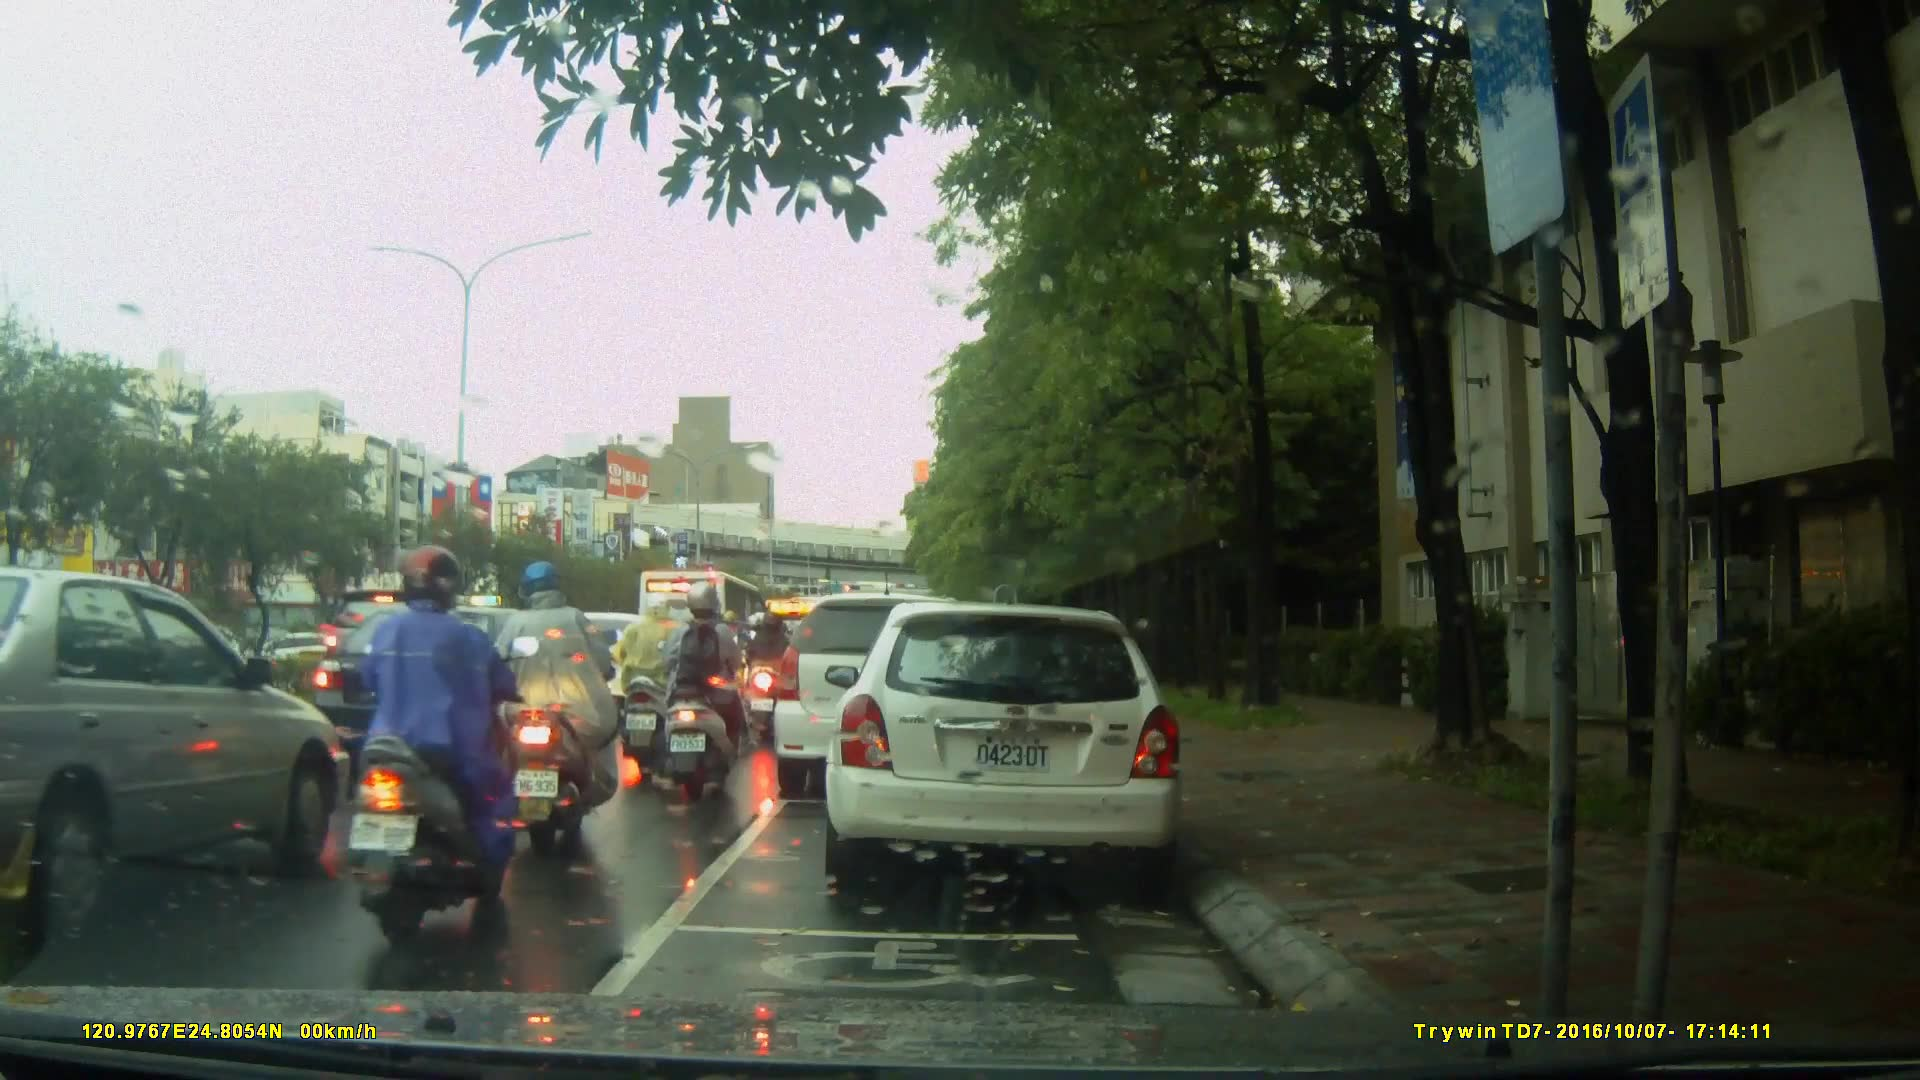rider: (353, 541, 517, 941), (484, 555, 610, 855), (656, 588, 741, 797), (615, 601, 693, 768), (740, 612, 793, 740)
vehicle: (2, 568, 352, 963), (831, 592, 1196, 897), (768, 592, 999, 802), (316, 605, 550, 770), (634, 568, 771, 701), (517, 611, 656, 722)
